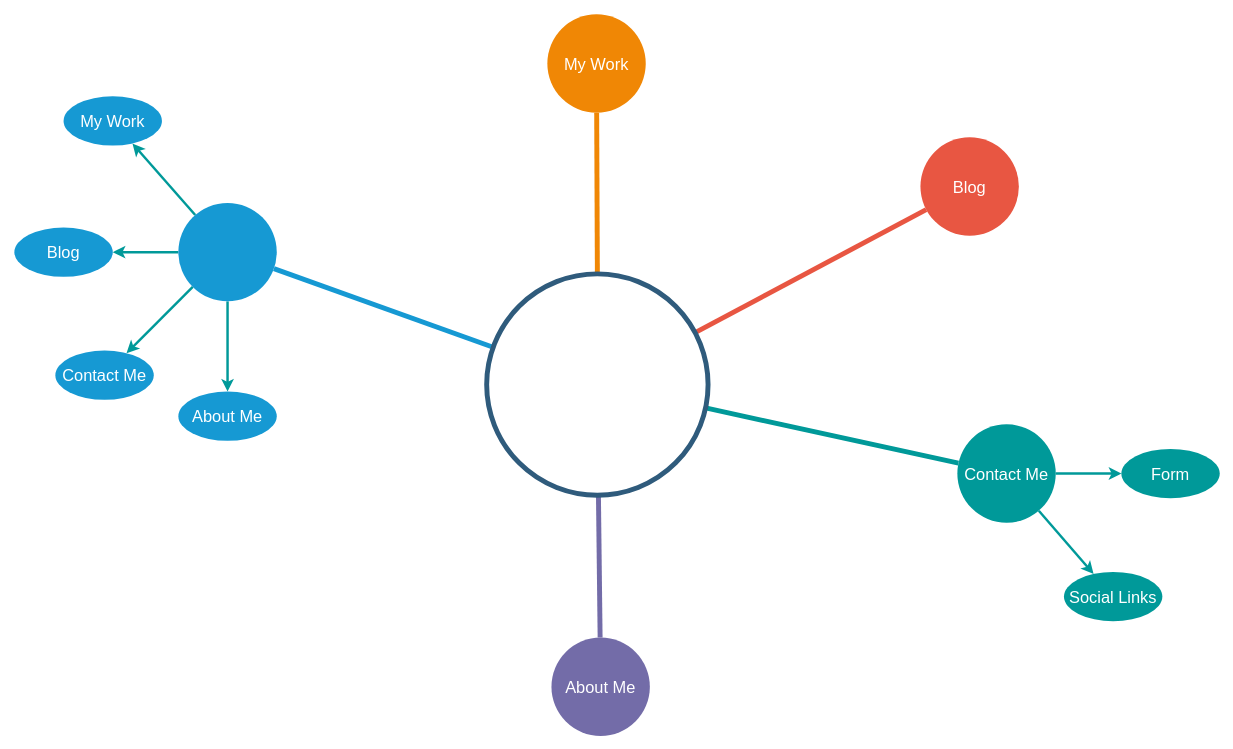
This 1233x749 diagram has some shape labels left out. The centre of each missing label's shape, as x and y in pixels:
Navigation: (x=227, y=252)
Portfolio Home: (x=597, y=384)
